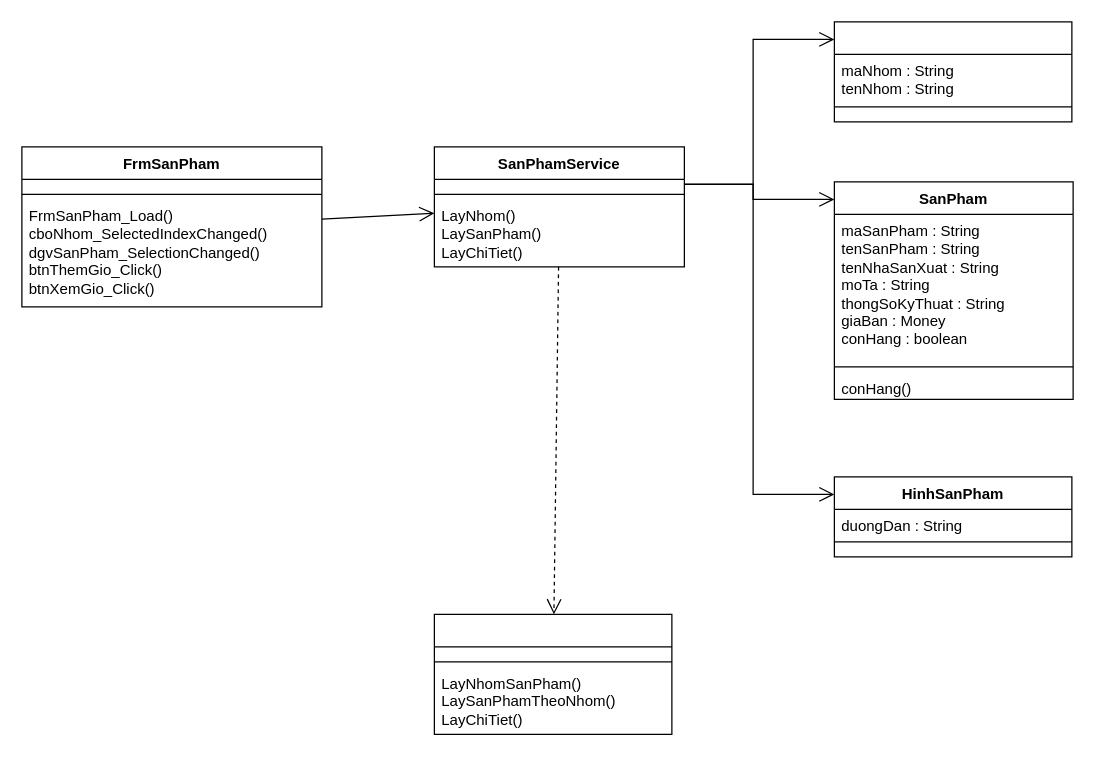
This 1095x760 diagram has some shape labels left out. Here are the shapes that lost their labels. From the top down, the box of each, then its label:
(833, 21, 1072, 122): NhomSanPham
(433, 613, 672, 734): IHeThongQuanLySanPham
